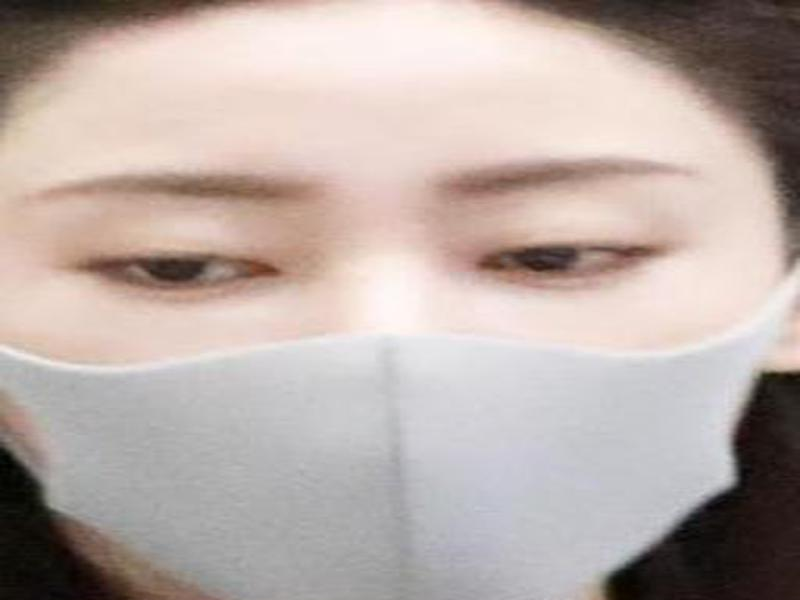with_mask: (6, 1, 797, 594)
